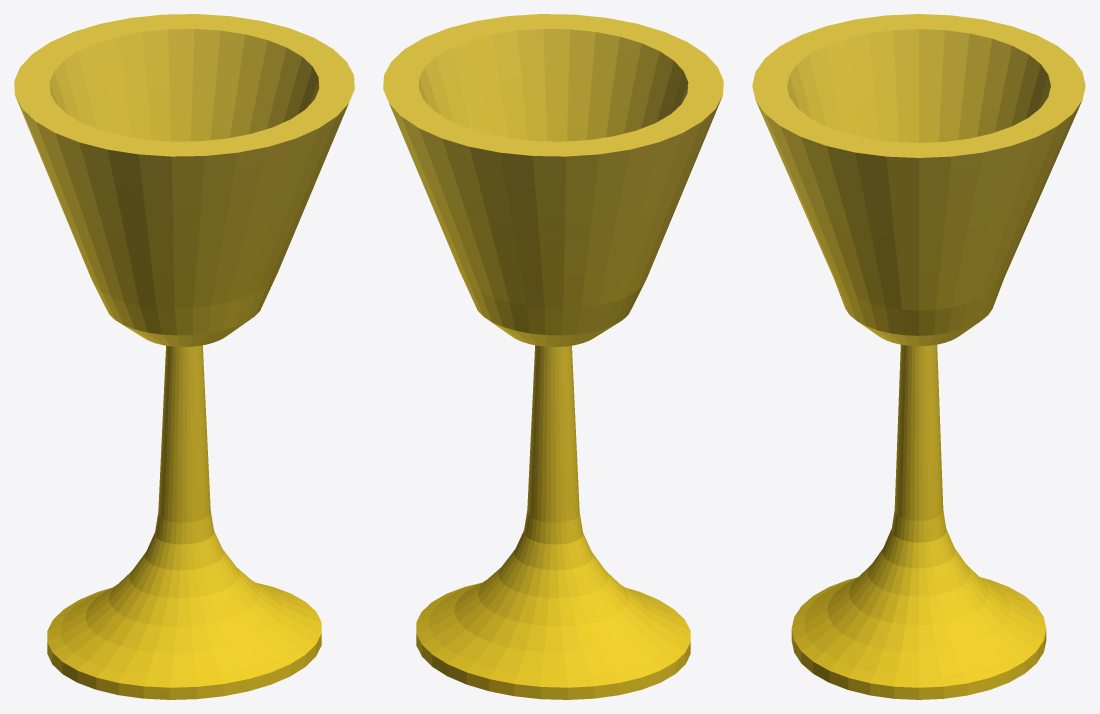
Rendered from Gold cup.fbx.
The picture shows the model from 3 angles, left to right: view 1: azimuth 30°, elevation 25°; view 2: azimuth 150°, elevation 25°; view 3: azimuth 270°, elevation 25°; orthographic projection.
Visible parts, largest first — view 1: Gold cup; view 2: Gold cup; view 3: Gold cup.
Boxes of the visible parts, x1,y1,x2,y2 form: Gold cup: (14, 14, 354, 699); Gold cup: (383, 14, 723, 699); Gold cup: (752, 14, 1085, 699).
Bounding box in the file's own units: 17.48 × 31.4 × 17.1.
